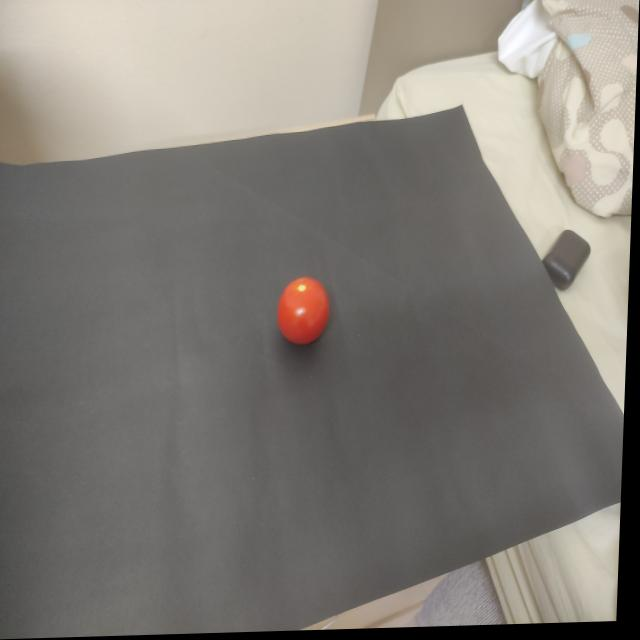kirmizi: (270, 266, 342, 364)
